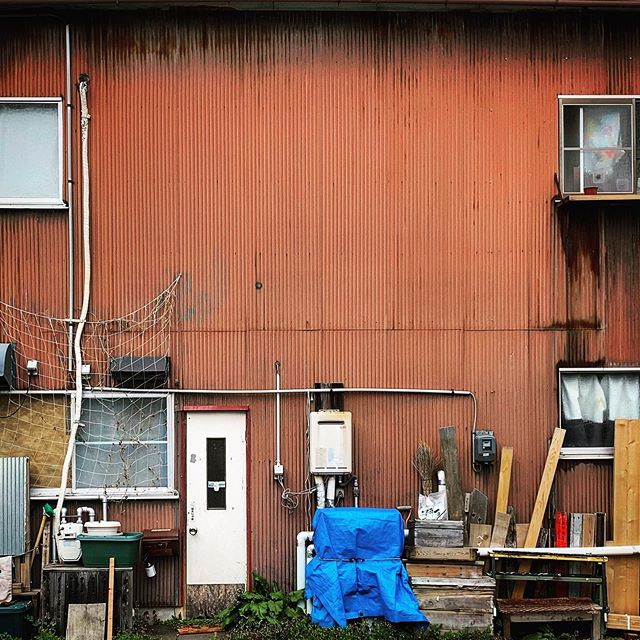building: (10, 1, 640, 631)
door: (185, 411, 256, 591)
trash: (292, 476, 640, 639)
window: (1, 378, 179, 515), (557, 100, 640, 199), (561, 365, 640, 456), (1, 102, 68, 209)
